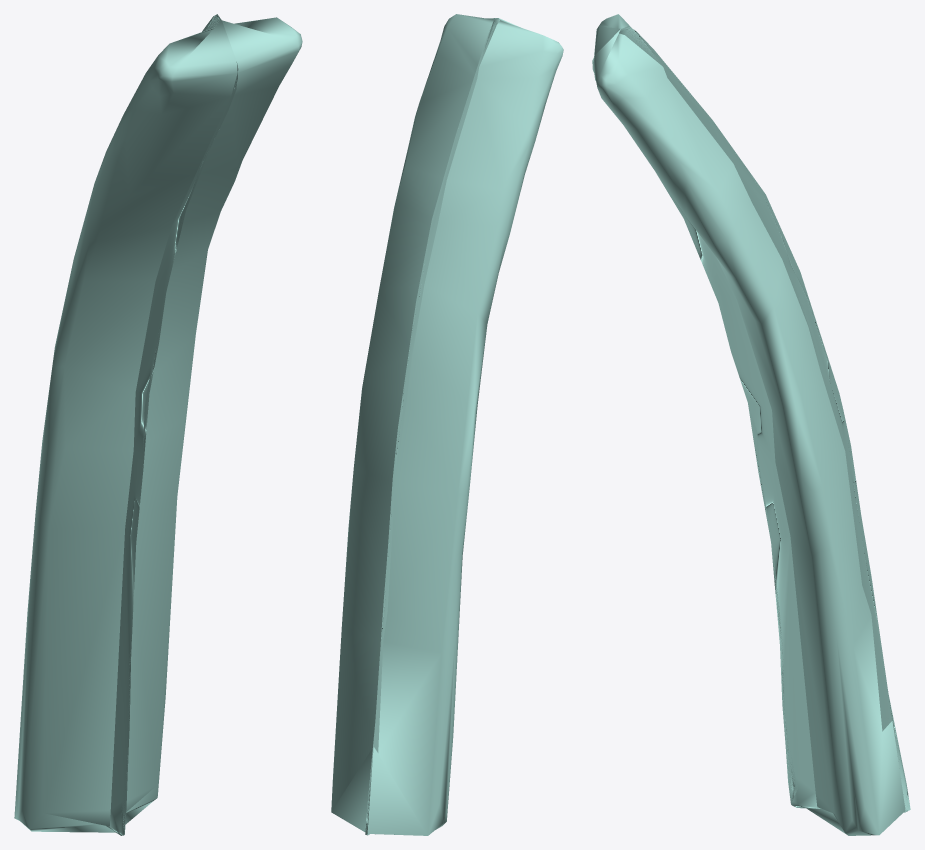
The model's file is Aqueduct_of_midbrain.glb.
The picture shows the model from 3 angles, left to right: view 1: azimuth 30°, elevation 25°; view 2: azimuth 150°, elevation 25°; view 3: azimuth 270°, elevation 25°; orthographic projection. The views are drawn at different scales.
Visible parts, largest first — view 1: Aqueduct of midbrain; view 2: Aqueduct of midbrain; view 3: Aqueduct of midbrain.
Boxes of the visible parts, x1,y1,x2,y2 form: Aqueduct of midbrain: (14, 14, 302, 835); Aqueduct of midbrain: (331, 14, 563, 835); Aqueduct of midbrain: (592, 14, 910, 835).
Size of the model in its own units: 0.00287 by 0.0171 by 0.00627.
